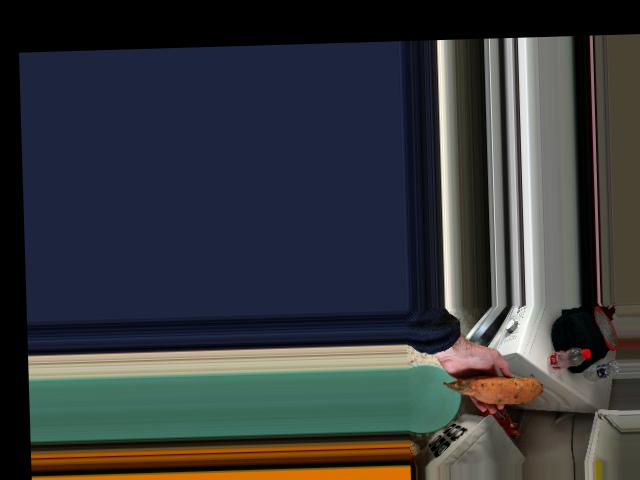sweet_potato: (447, 372, 543, 405)
